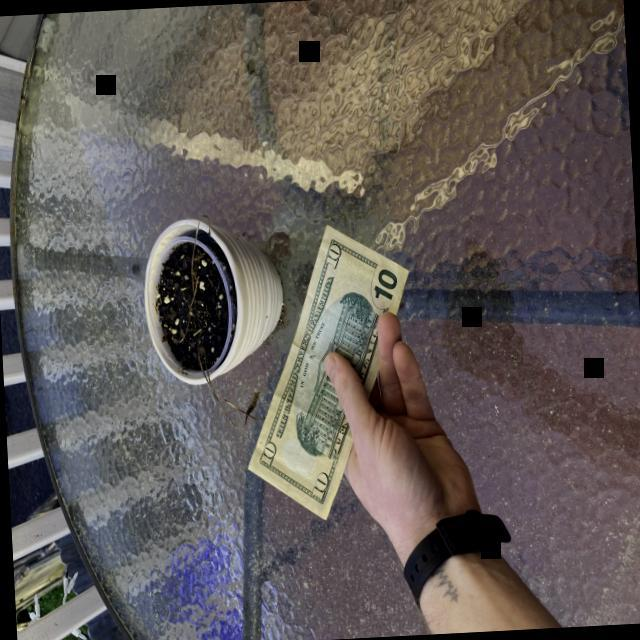ten: (248, 224, 409, 521)
